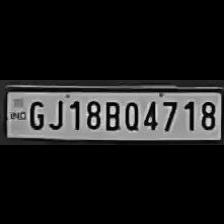1: (64, 96, 82, 130), (179, 96, 197, 130)
4: (140, 96, 158, 130)
7: (160, 96, 178, 132)
8: (196, 96, 218, 130), (82, 96, 102, 130)
B: (101, 96, 121, 130)
G: (24, 96, 46, 128)
J: (46, 95, 64, 129)
Q: (122, 97, 140, 129)
